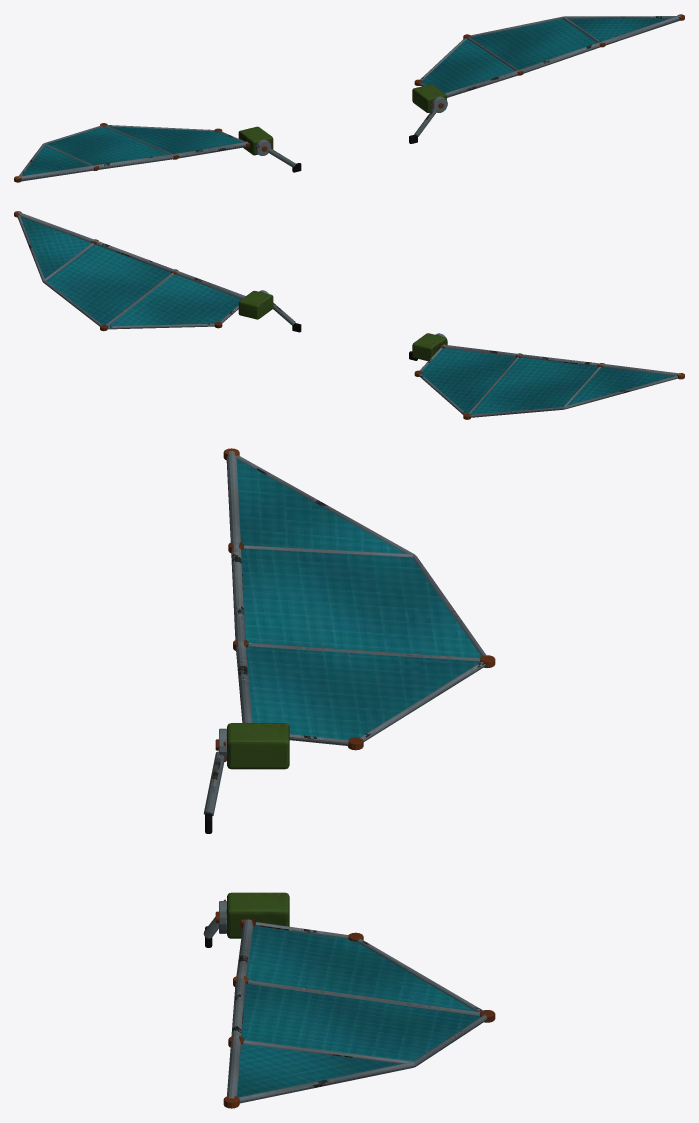
The model's file is shoulder-wings.glb.
3 renders of one model, top to bottom at view 1: azimuth 30°, elevation 25°; view 2: azimuth 150°, elevation 25°; view 3: azimuth 270°, elevation 25°, orthographic. The views are drawn at different scales.
Parts seen in each view (by area): view 1: Mesh__RightShoulder_Open, Mesh__LeftShoulder_Open; view 2: Mesh__RightShoulder_Open, Mesh__LeftShoulder_Open; view 3: Mesh__LeftShoulder_Open, Mesh__RightShoulder_Open.
Boxes of the visible parts, bbox=[...] form: Mesh__RightShoulder_Open: bbox=[409, 14, 684, 143]; Mesh__LeftShoulder_Open: bbox=[14, 123, 301, 182]; Mesh__RightShoulder_Open: bbox=[14, 211, 301, 332]; Mesh__LeftShoulder_Open: bbox=[409, 333, 684, 419]; Mesh__LeftShoulder_Open: bbox=[203, 448, 495, 833]; Mesh__RightShoulder_Open: bbox=[203, 892, 495, 1108].
Size of the model in its own units: 5.05 by 0.4101 by 0.9522.
Materials: 6 (6 with a texture image).
